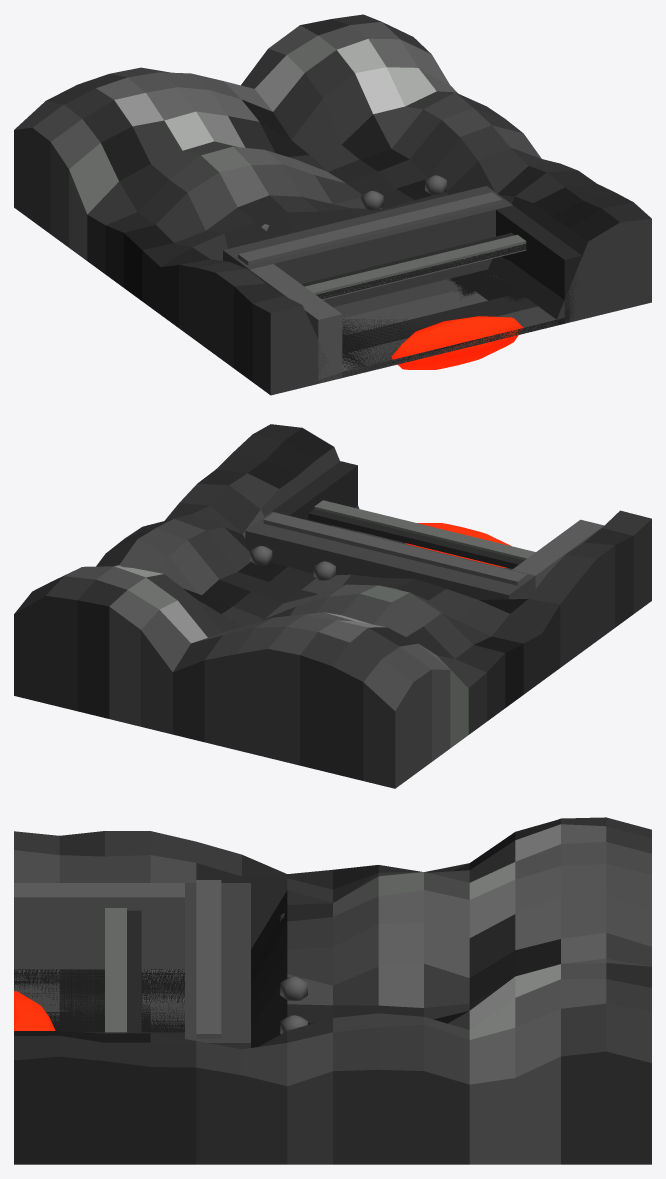
The model's file is newshg-153-f3.glb.
3 views of the same model, one above another, from view 1: azimuth 30°, elevation 25°; view 2: azimuth 150°, elevation 25°; view 3: azimuth 270°, elevation 25° (orthographic). The views are drawn at different scales.
Visible parts, largest first — view 1: newshg-153.002; view 2: newshg-153.002; view 3: newshg-153.002.
Boxes of the visible parts, x1,y1,x2,y2 form: newshg-153.002: (14,14,651,395); newshg-153.002: (14,424,651,788); newshg-153.002: (14,817,651,1164).
Bounding box in the file's own units: 2 × 0.6807 × 2.33.
